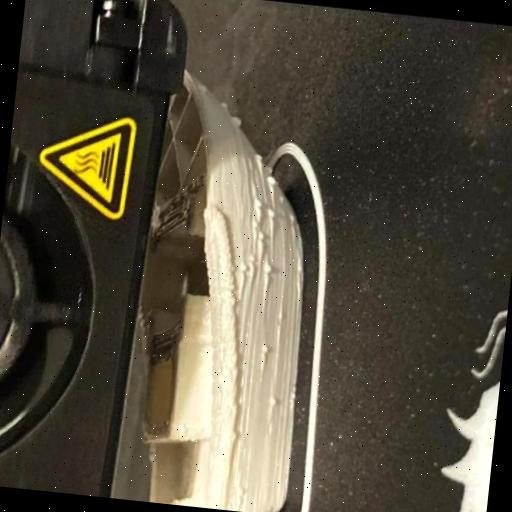blobs: (232, 254, 253, 278), (260, 256, 280, 278), (264, 200, 284, 221), (262, 173, 282, 189), (264, 389, 280, 406), (258, 340, 273, 357), (226, 114, 244, 128), (254, 225, 268, 242), (250, 194, 264, 208), (252, 150, 266, 164)
